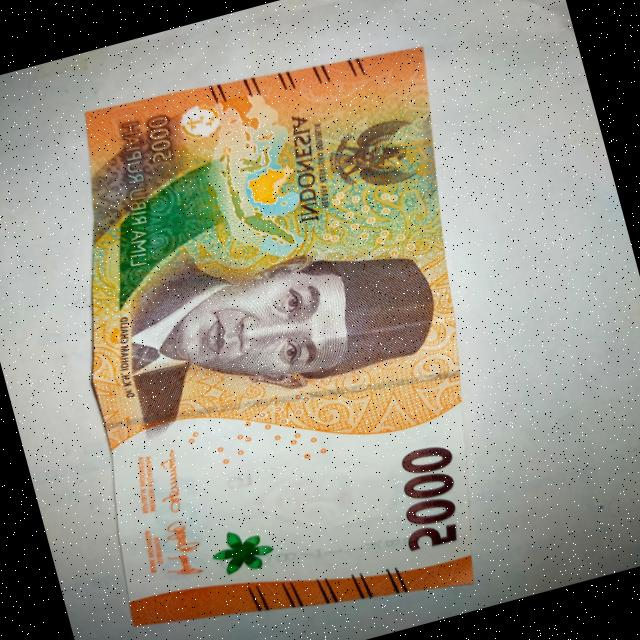5K: (0, 10, 569, 640)
